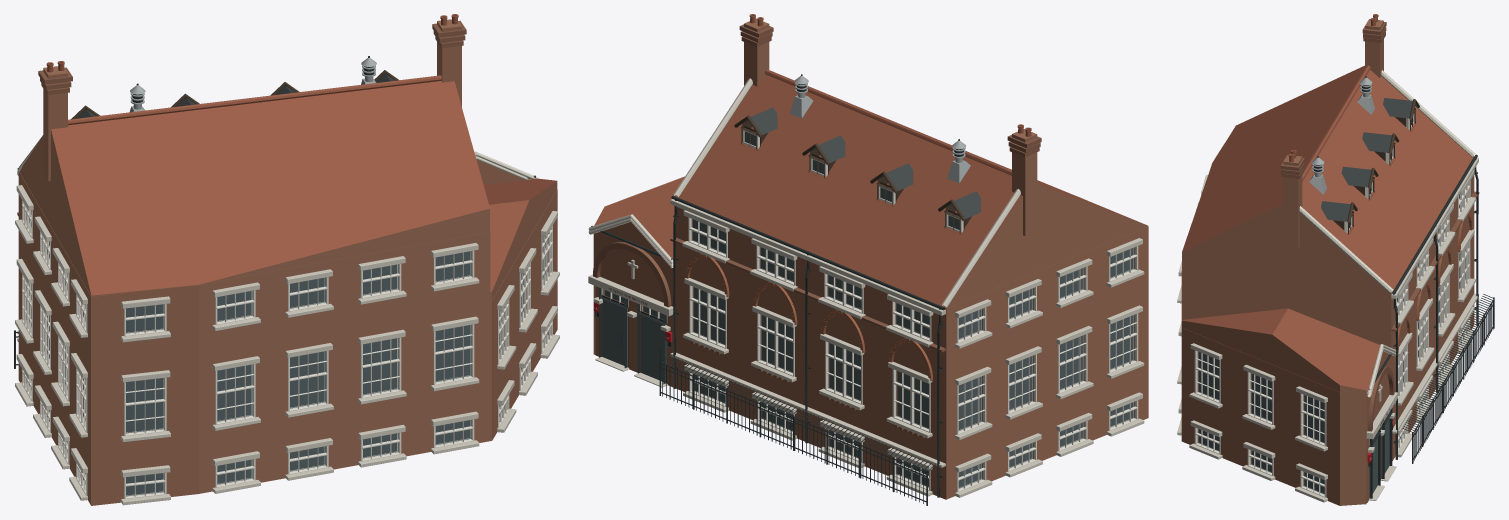
The model's file is par-exterior-715d038f3627.glb.
The picture shows the model from 3 angles, left to right: view 1: azimuth 30°, elevation 25°; view 2: azimuth 150°, elevation 25°; view 3: azimuth 270°, elevation 25°; orthographic projection. The views are drawn at different scales.
Parts seen in each view (by area): view 1: PAR.001; view 2: PAR.001; view 3: PAR.001.
Part boxes in pixels (x1,y1,x2,y2): PAR.001: (14,14,559,505); PAR.001: (588,14,1148,505); PAR.001: (1177,14,1494,505).
Bounding box in the file's own units: 23.48 × 15.54 × 14.92.
